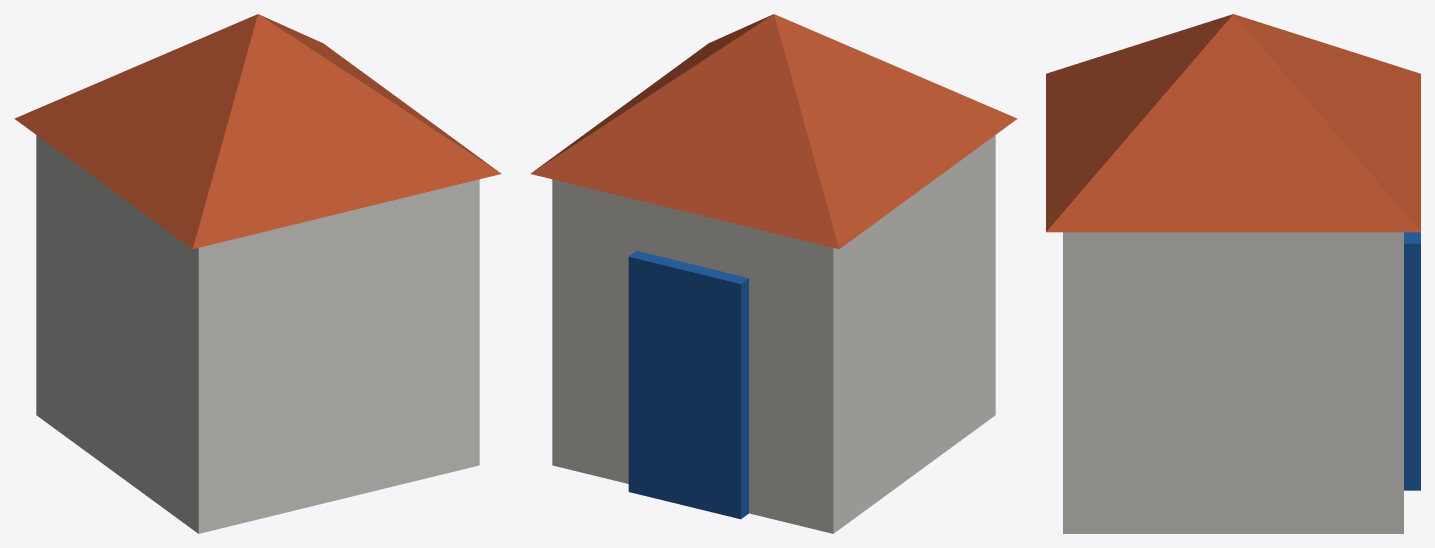
File: house.glb
3 renders of one model, left to right at view 1: azimuth 30°, elevation 25°; view 2: azimuth 150°, elevation 25°; view 3: azimuth 270°, elevation 25°, orthographic. The views are drawn at different scales.
Visible parts, largest first — view 1: house; view 2: house; view 3: house.
Boxes of the visible parts, left/top/right/bottom form: house: left=14, top=14, right=501, bottom=533; house: left=530, top=14, right=1017, bottom=533; house: left=1046, top=14, right=1420, bottom=533.
Size of the model in its own units: 3.3 by 4.35 by 3.3.
